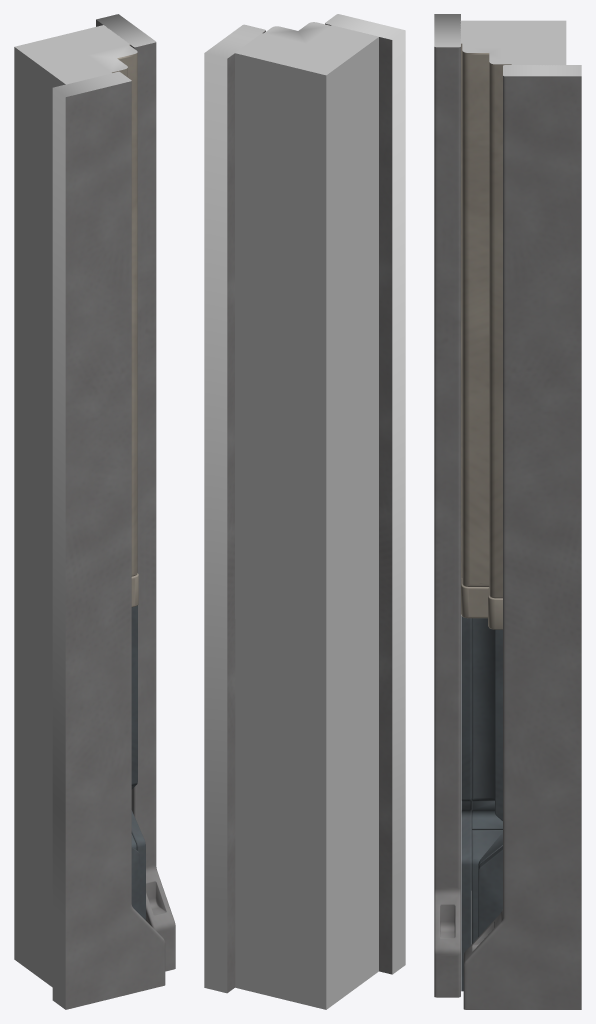
Rendered from SM_RoomStyle01_WallCorner.fbx.
3 renders of one model, left to right at view 1: azimuth 30°, elevation 25°; view 2: azimuth 150°, elevation 25°; view 3: azimuth 270°, elevation 25°, orthographic. The views are drawn at different scales.
Parts seen in each view (by area): view 1: SM_RoomStyle01_WallCorner_LOD0; view 2: SM_RoomStyle01_WallCorner_LOD0; view 3: SM_RoomStyle01_WallCorner_LOD0.
Boxes of the visible parts, left/top/right/bottom form: SM_RoomStyle01_WallCorner_LOD0: left=14, top=14, right=175, bottom=1009; SM_RoomStyle01_WallCorner_LOD0: left=204, top=14, right=405, bottom=1009; SM_RoomStyle01_WallCorner_LOD0: left=434, top=14, right=581, bottom=1009.
Bounding box in the file's own units: 41.67 × 41.67 × 291.
Materials: 2 (1 with a texture image).
